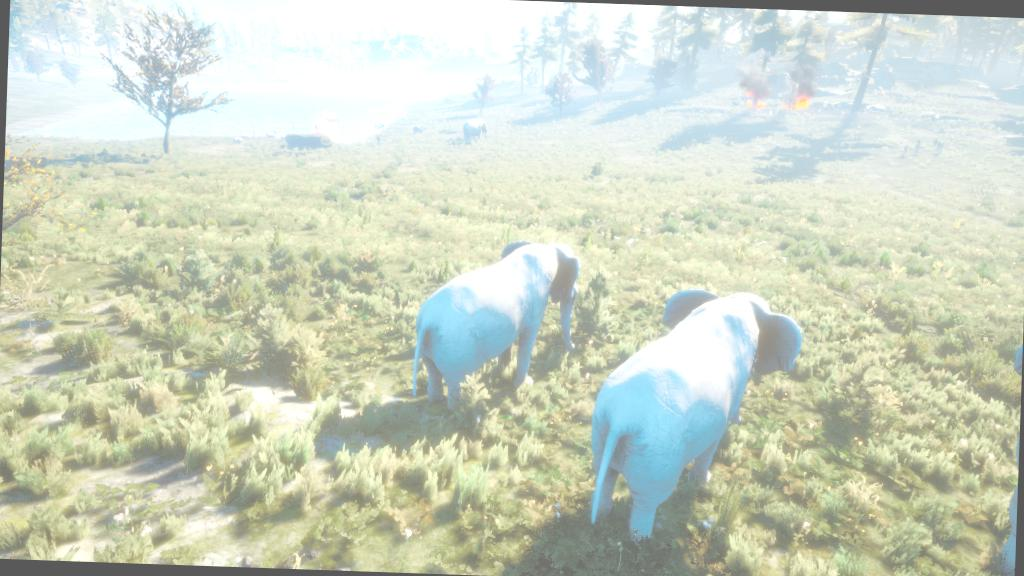Fire: (746, 92, 769, 114), (789, 94, 813, 110)
elephant: (576, 254, 810, 562), (400, 225, 584, 421), (456, 115, 501, 152)
human: (896, 126, 948, 171)
smoke: (791, 62, 821, 90), (738, 66, 769, 93)
